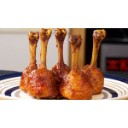chicken_lollipop: (51, 27, 90, 98), (21, 29, 55, 98), (86, 29, 109, 99)
